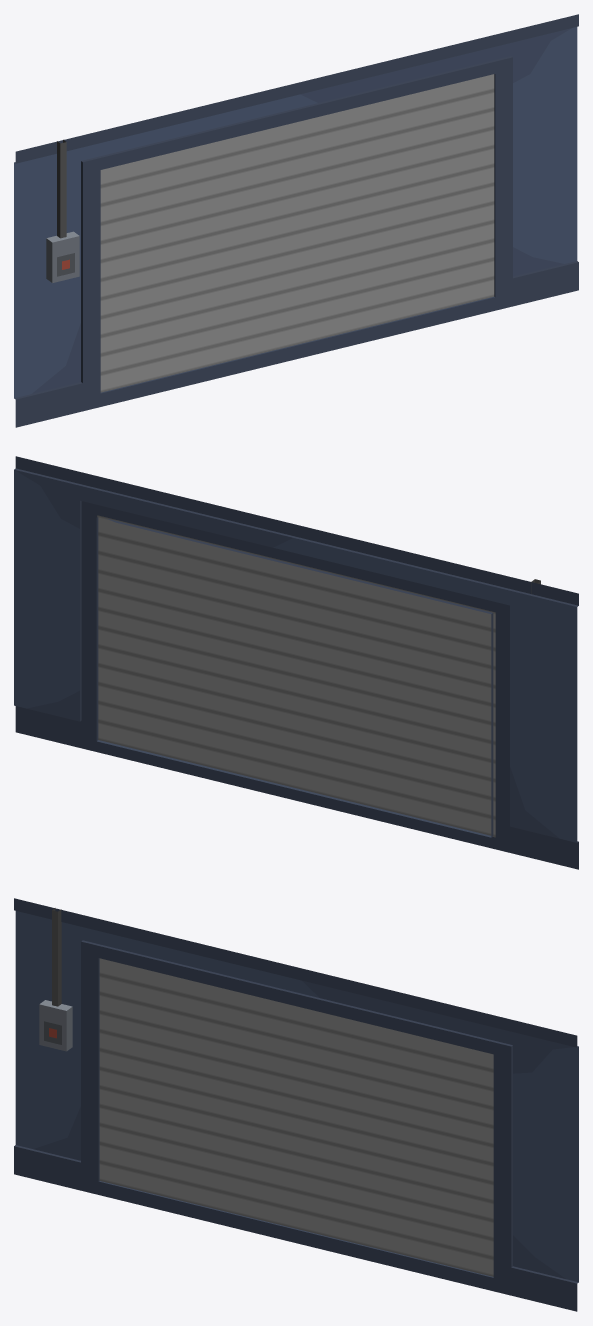
File: AI_Env_Wall_Blue_GarageDoor.fbx
The picture shows the model from 3 angles, top to bottom: view 1: azimuth 30°, elevation 25°; view 2: azimuth 150°, elevation 25°; view 3: azimuth 330°, elevation 25°; orthographic projection.
Visible parts, largest first — view 1: AI_Env_Wall_Blue_GarageDoor; view 2: AI_Env_Wall_Blue_GarageDoor; view 3: AI_Env_Wall_Blue_GarageDoor.
Boxes of the visible parts, x1,y1,x2,y2 form: AI_Env_Wall_Blue_GarageDoor: (14, 14, 578, 427); AI_Env_Wall_Blue_GarageDoor: (14, 456, 578, 869); AI_Env_Wall_Blue_GarageDoor: (14, 898, 578, 1311).
Size of the model in its own units: 10 by 4.69 by 0.2623.
